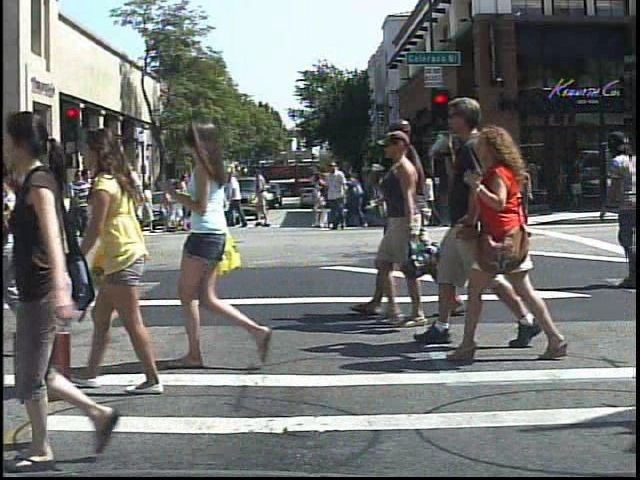person: (0, 105, 148, 473), (169, 111, 291, 379), (413, 84, 518, 351), (466, 122, 574, 364), (80, 121, 173, 397), (601, 120, 639, 294), (0, 131, 17, 365), (116, 161, 150, 242), (72, 163, 102, 242), (461, 159, 492, 231), (28, 168, 55, 243), (5, 177, 23, 241), (96, 180, 116, 222)
